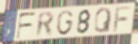8: (76, 9, 91, 35)
F: (16, 11, 37, 41), (112, 5, 132, 33)
G: (56, 9, 74, 36)
Q: (93, 7, 113, 35)
R: (35, 11, 55, 39)
